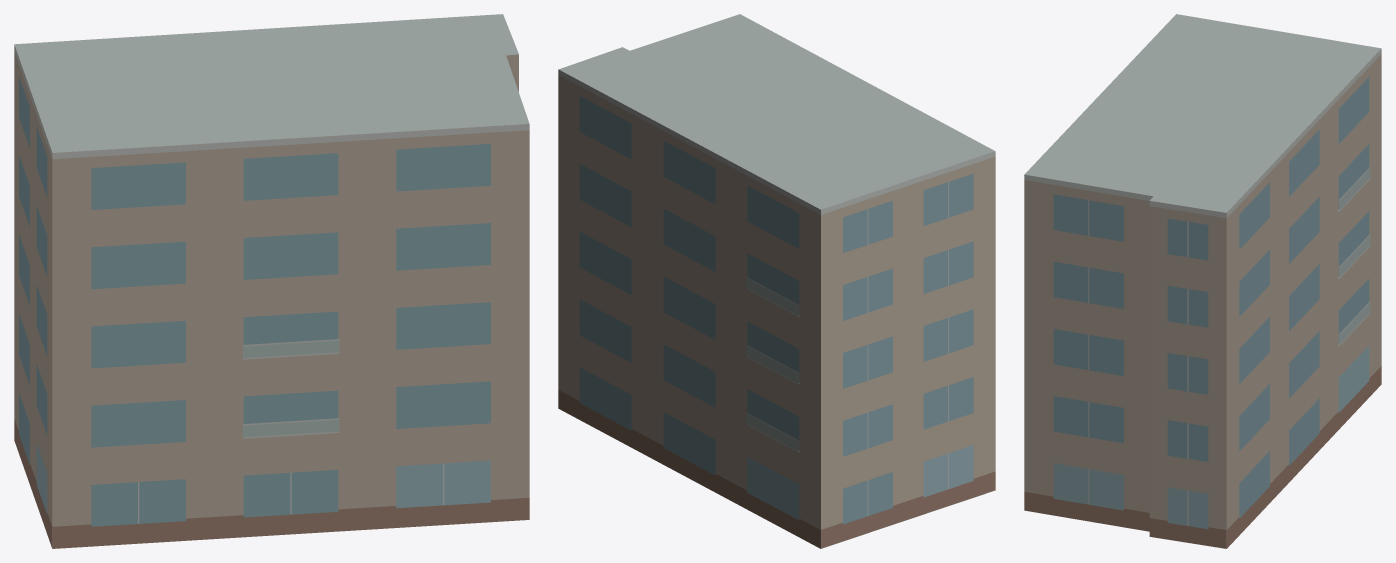
Rendered from survey-upis-32576623.glb.
The picture shows the model from 3 angles, left to right: view 1: azimuth 30°, elevation 25°; view 2: azimuth 150°, elevation 25°; view 3: azimuth 270°, elevation 25°; orthographic projection. The views are drawn at different scales.
Visible parts, largest first — view 1: survey-upis-32576623.tmp; view 2: survey-upis-32576623.tmp; view 3: survey-upis-32576623.tmp.
Boxes of the visible parts, x1=… form: survey-upis-32576623.tmp: x1=14, y1=14, x2=529, y2=548; survey-upis-32576623.tmp: x1=558, y1=14, x2=995, y2=548; survey-upis-32576623.tmp: x1=1024, y1=14, x2=1381, y2=548.
Bounding box in the file's own units: 19.57 × 15.4 × 14.85.
